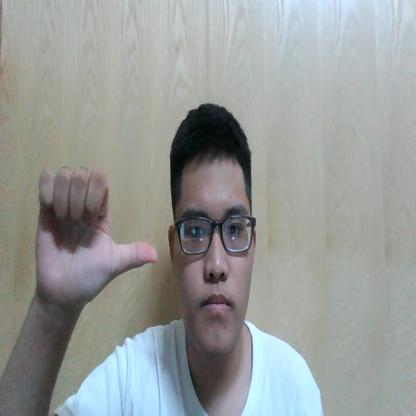left: (35, 162, 156, 302)
